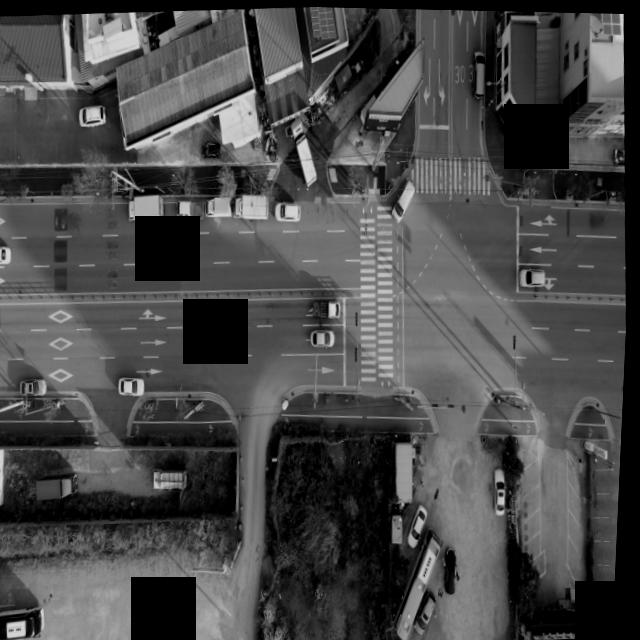car: (393, 175, 420, 224), (420, 588, 445, 636), (413, 500, 433, 548), (472, 46, 489, 99), (449, 544, 464, 593), (79, 104, 108, 128), (122, 374, 150, 396), (277, 200, 305, 222), (522, 267, 551, 287), (499, 470, 512, 512), (24, 377, 51, 396), (316, 328, 339, 346), (202, 141, 223, 158), (0, 246, 13, 267)
large_bus: (392, 524, 454, 640), (0, 603, 53, 640)
medium_truck: (289, 115, 325, 188), (39, 473, 83, 505), (236, 190, 273, 223), (131, 193, 169, 224)
small_truck: (156, 470, 192, 493), (206, 194, 236, 219), (178, 195, 206, 221), (313, 298, 341, 317)
